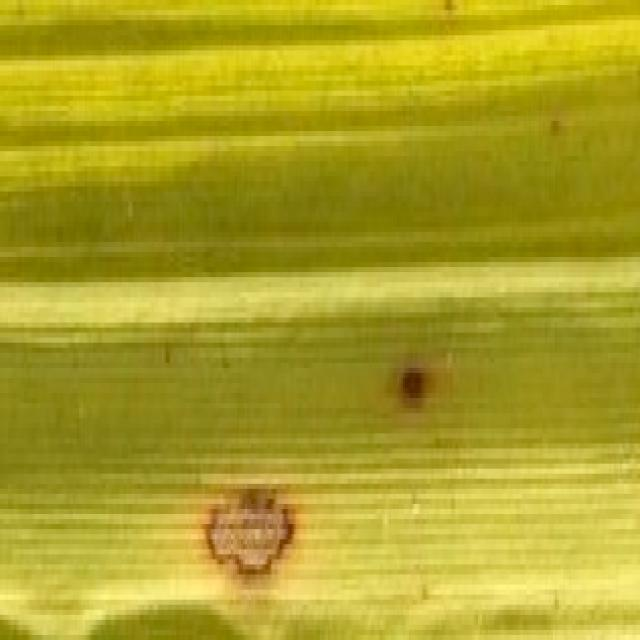Unhealthy: (185, 462, 310, 604), (386, 350, 465, 434)
